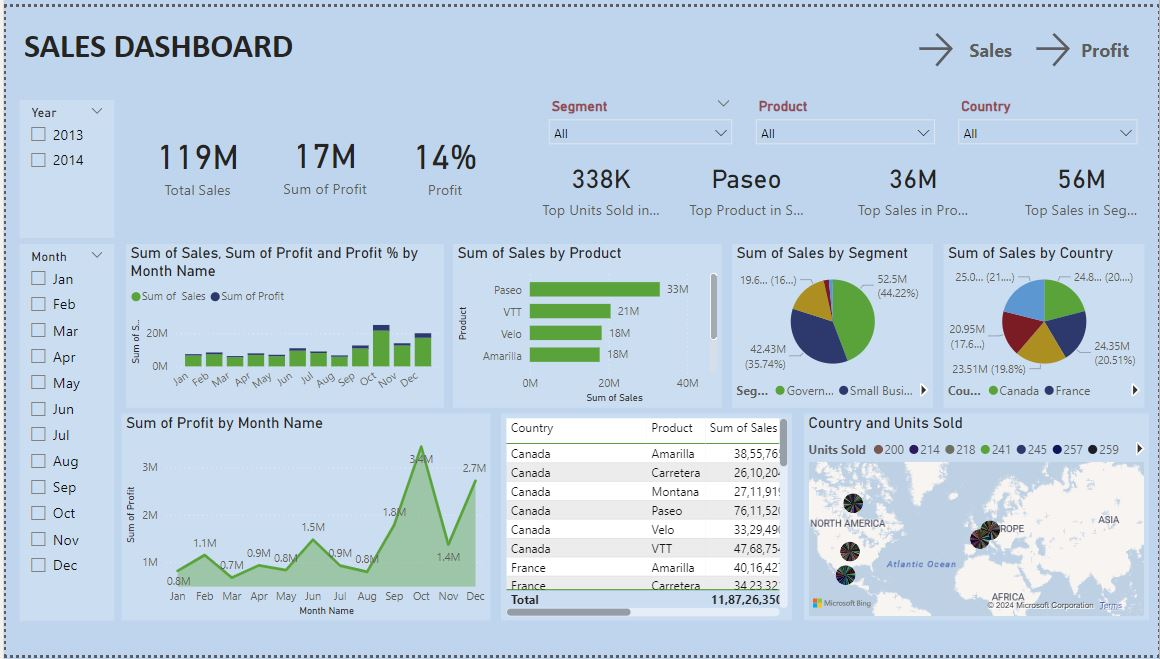

The dashboard page shown, as its layout file describes it:
{"tool":"powerbi","page":{"name":"Sales","canvas":[1280,720],"ordinal":0},"visuals":[{"type":"slicer","fields":{"Values":["financials.Year"]},"box":[15,103.3,105,153.3],"z":0},{"type":"slicer","fields":{"Values":["financials.Product"]},"box":[823.3,95.7,218.3,66.7],"z":1000},{"type":"slicer","fields":{"Values":["financials.Segment"]},"box":[593.3,95.7,223.3,66.7],"z":2000},{"type":"slicer","title":"Month","fields":{"Values":["financials.Month Name"]},"box":[15,263.3,105,418.3],"z":3000},{"type":"slicer","fields":{"Values":["financials.Country"]},"box":[1048.3,95.7,218.3,66.7],"z":4000},{"type":"card","fields":{"Values":["Sum(financials. Sales)"]},"box":[131.7,105,161.7,135],"z":5000},{"type":"card","fields":{"Values":["financials.Profit %"]},"box":[416.7,108.3,141.7,128.3],"z":6000},{"type":"card","fields":{"Values":["Sum(financials.Profit)"]},"box":[283.3,103.3,141.7,136.7],"z":7000},{"type":"card","fields":{"Values":["Sum(financials.Gross Sales)"]},"box":[936.7,160,141.7,80],"z":8000},{"type":"card","fields":{"Values":["Min(financials.Product)"]},"box":[751.7,160,141.7,80],"z":9000},{"type":"card","fields":{"Values":["Sum(financials.Units Sold)"]},"box":[590,160,141.7,80],"z":10000},{"type":"card","fields":{"Values":["Sum(financials.Gross Sales)"]},"box":[1123.3,160,141.7,80],"z":11000},{"type":"columnChart","fields":{"Category":["financials.Month Name"],"Y":["Sum(financials. Sales)","Sum(financials.Profit)"]},"box":[133.3,263.3,353.3,181.7],"z":12000},{"type":"areaChart","fields":{"Category":["financials.Month Name"],"Y":["Sum(financials.Profit)"]},"box":[128.3,451.7,410,230],"z":13000},{"type":"clusteredBarChart","fields":{"Category":["financials.Product"],"Y":["Sum(financials. Sales)"]},"box":[496.7,263.3,298.3,181.7],"z":14000},{"type":"pieChart","fields":{"Y":["Sum(financials. Sales)"],"Category":["financials.Segment"]},"box":[806.7,263.3,223.3,181.7],"z":15000},{"type":"pieChart","fields":{"Y":["Sum(financials. Sales)"],"Series":["financials.Country"]},"box":[1041.7,263.3,223.3,181.7],"z":16000},{"type":"map","fields":{"Category":["financials.Country"],"Series":["financials.Units Sold"]},"box":[886.7,451.7,383.3,230],"z":17000},{"type":"tableEx","fields":{"Values":["financials.Country","financials.Product","Sum(financials. Sales)","Sum(financials.Discounts)","Sum(financials.Profit)","Sum(financials.Units Sold)"]},"box":[550,451.7,323.3,230],"z":18000},{"type":"textbox","box":[15,15,318.3,66.7],"z":19000},{"type":"actionButton","box":[1138.3,23.3,113.3,48.3],"z":19001},{"type":"actionButton","box":[1008.3,23.3,113.3,48.3],"z":19002}]}

Visuals, with their boxes in screenshot pixels (x1, y1, x2, y2), scaled from the page's 1280x720 canvas onto the 1160x659 screenshot:
slicer - financials.Year: select_region(14, 95, 109, 235)
slicer - financials.Product: select_region(746, 88, 944, 149)
slicer - financials.Segment: select_region(538, 88, 740, 149)
"Month" slicer: select_region(14, 241, 109, 624)
slicer - financials.Country: select_region(950, 88, 1148, 149)
card - Sum(financials. Sales): select_region(119, 96, 266, 220)
card - financials.Profit %: select_region(378, 99, 506, 217)
card - Sum(financials.Profit): select_region(257, 95, 385, 220)
card - Sum(financials.Gross Sales): select_region(849, 146, 977, 220)
card - Min(financials.Product): select_region(681, 146, 810, 220)
card - Sum(financials.Units Sold): select_region(535, 146, 663, 220)
card - Sum(financials.Gross Sales): select_region(1018, 146, 1146, 220)
columnChart - financials.Month Name x Sum(financials. Sales): select_region(121, 241, 441, 407)
areaChart - financials.Month Name x Sum(financials.Profit): select_region(116, 413, 488, 624)
clusteredBarChart - financials.Product x Sum(financials. Sales): select_region(450, 241, 720, 407)
pieChart - Sum(financials. Sales) x financials.Segment: select_region(731, 241, 933, 407)
pieChart - Sum(financials. Sales) x financials.Country: select_region(944, 241, 1146, 407)
map - financials.Country x financials.Units Sold: select_region(804, 413, 1151, 624)
tableEx - financials.Country x financials.Product: select_region(498, 413, 791, 624)
textbox: select_region(14, 14, 302, 75)
actionButton: select_region(1032, 21, 1134, 66)
actionButton: select_region(914, 21, 1016, 66)
